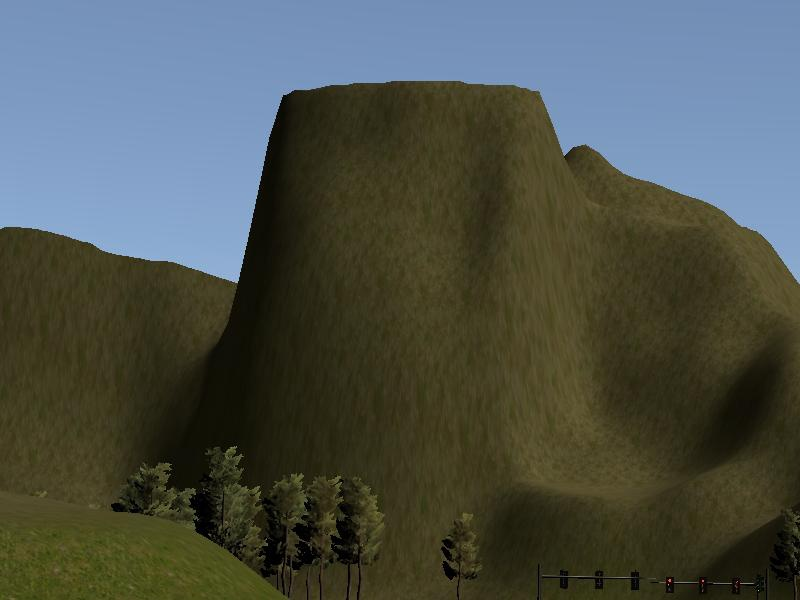Off: (731, 578, 740, 595)
Red: (665, 576, 673, 592), (699, 577, 706, 594)
